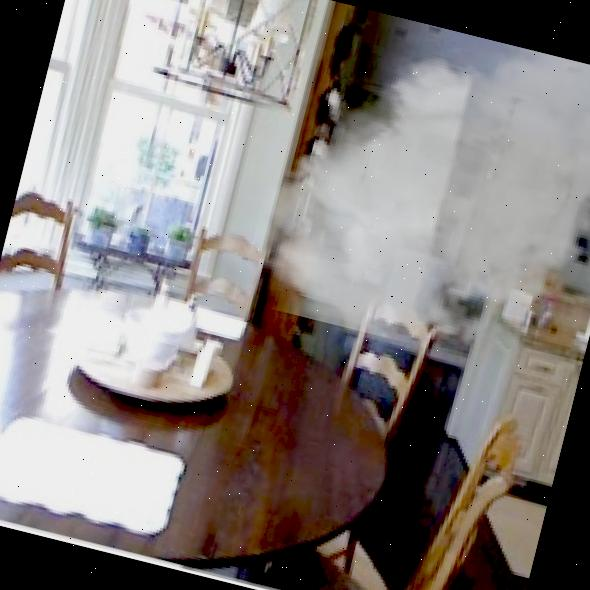smoke: (234, 0, 590, 397)
